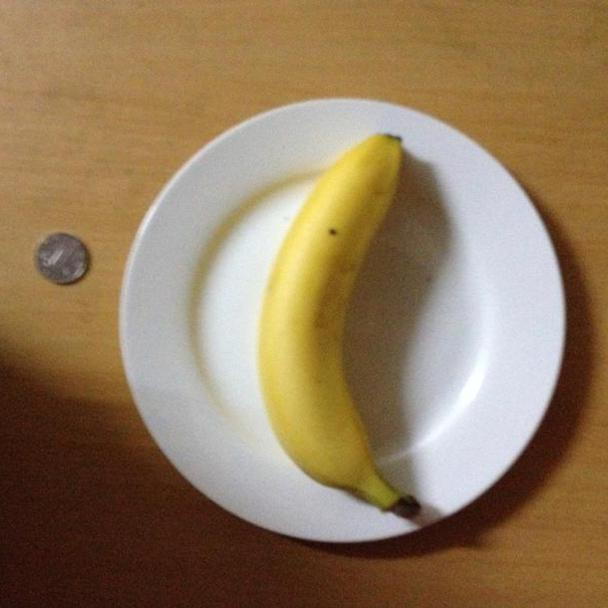banana: (261, 132, 439, 523)
